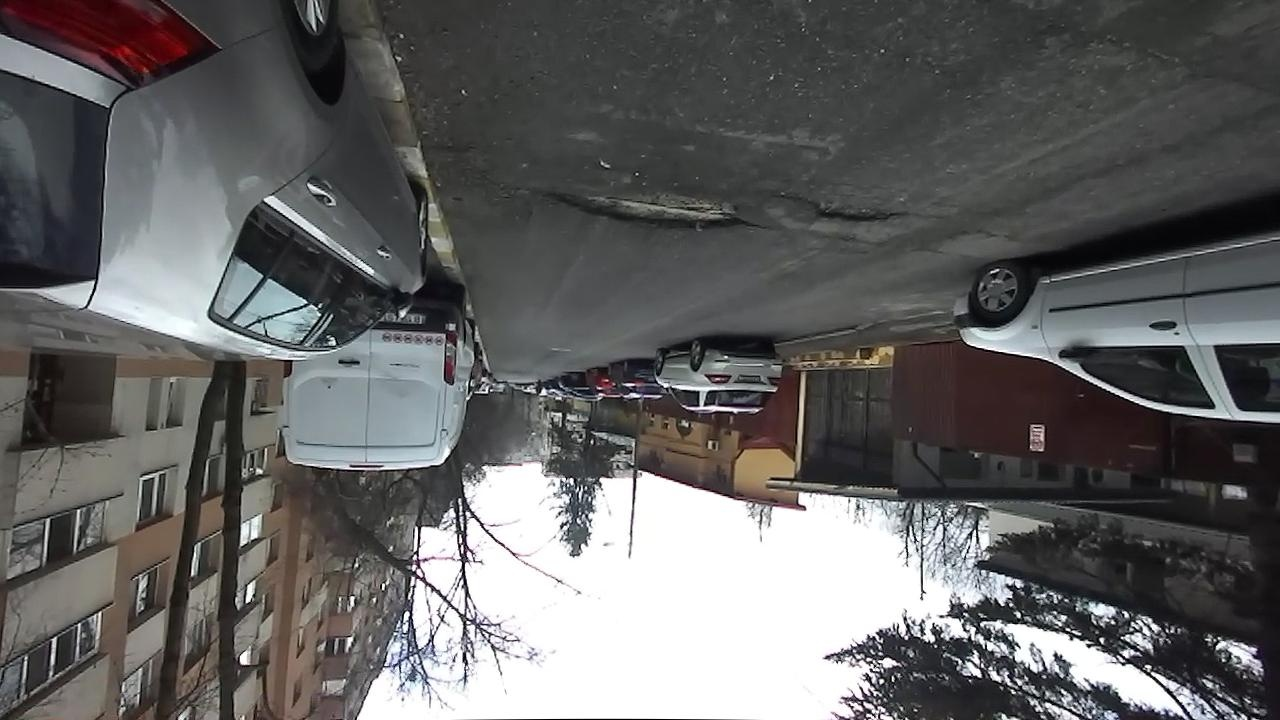pothole: (531, 180, 768, 235), (774, 190, 907, 225)
